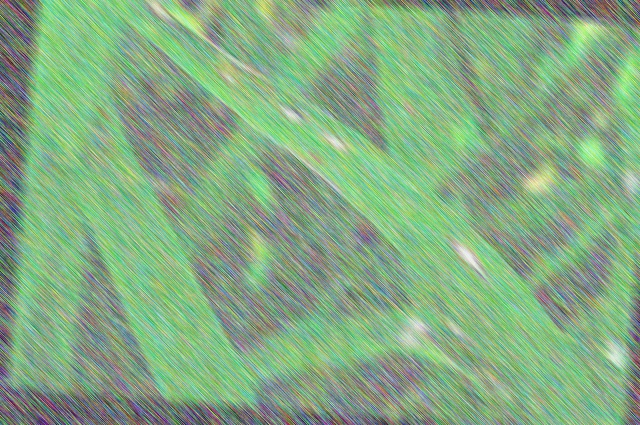Brown_Spot: (445, 234, 490, 273), (136, 0, 191, 28), (322, 120, 351, 154), (213, 55, 245, 85), (268, 99, 305, 124), (618, 163, 640, 200)
